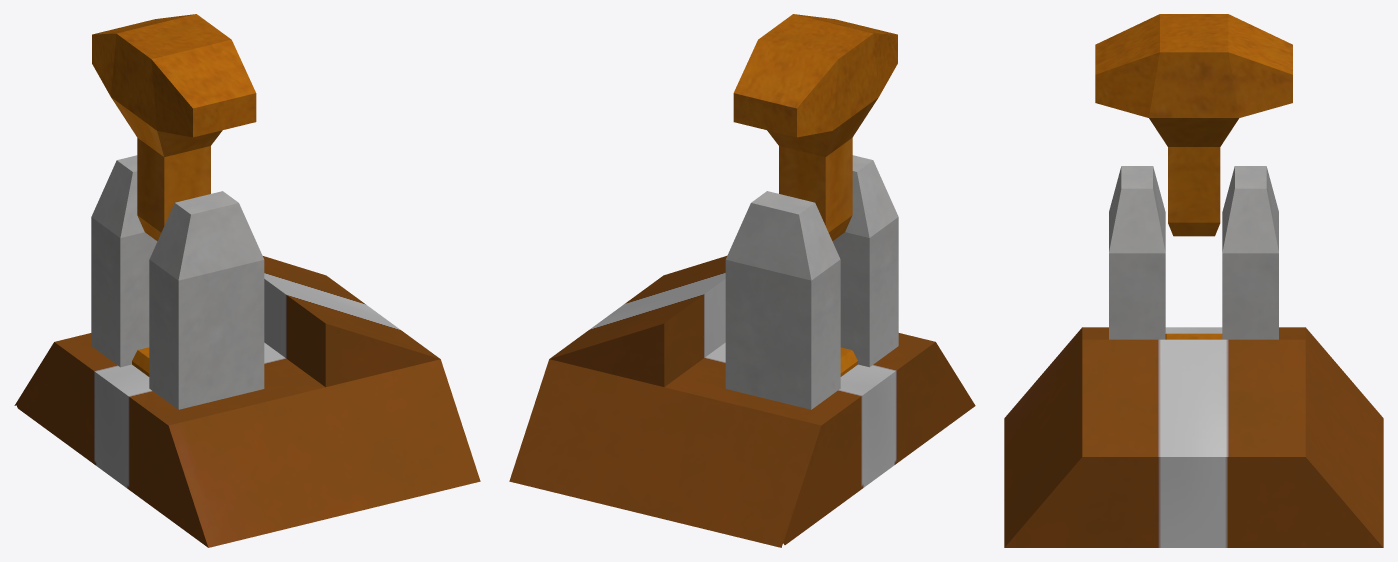
The model's file is torrenormal2.fbx.
3 renders of one model, left to right at view 1: azimuth 30°, elevation 25°; view 2: azimuth 150°, elevation 25°; view 3: azimuth 270°, elevation 25°, orthographic. The views are drawn at different scales.
Visible parts, largest first — view 1: Base; view 2: Base; view 3: Base.
Boxes of the visible parts, box(x1,y1,x2,y2) form: Base: box(14, 14, 480, 547); Base: box(509, 14, 975, 547); Base: box(1004, 14, 1383, 547).
Bounding box in the file's own units: 200 × 299 × 247.
